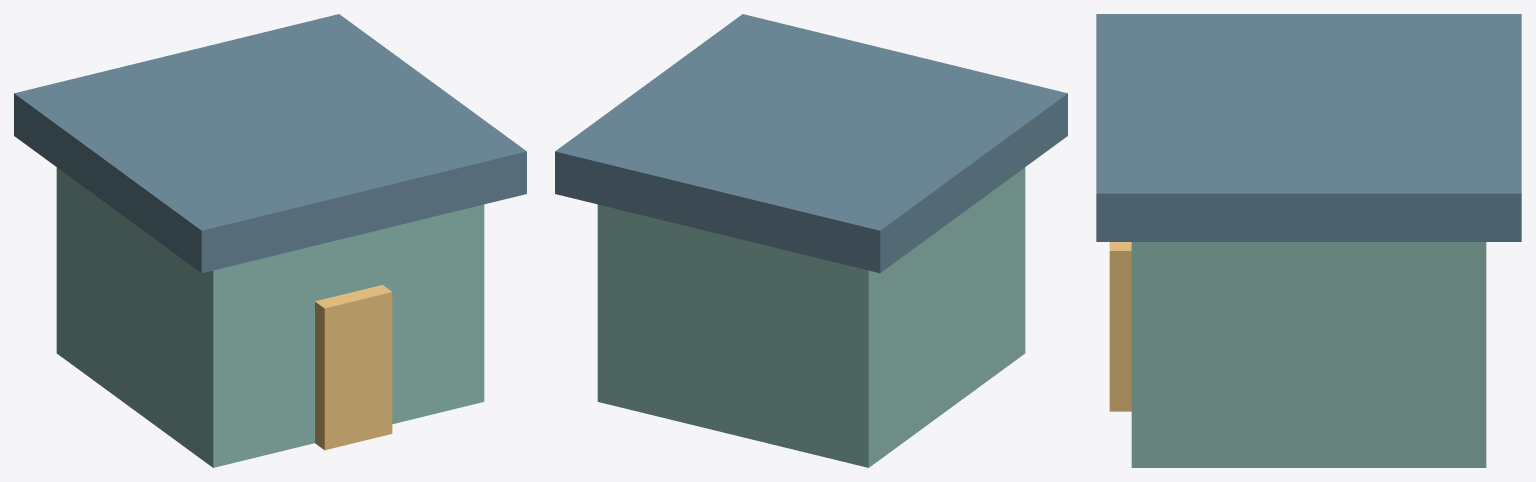
File: haven.glb
The picture shows the model from 3 angles, left to right: view 1: azimuth 30°, elevation 25°; view 2: azimuth 150°, elevation 25°; view 3: azimuth 270°, elevation 25°; orthographic projection. The views are drawn at different scales.
Size of the model in its own units: 2.4 by 1.8 by 2.4.
